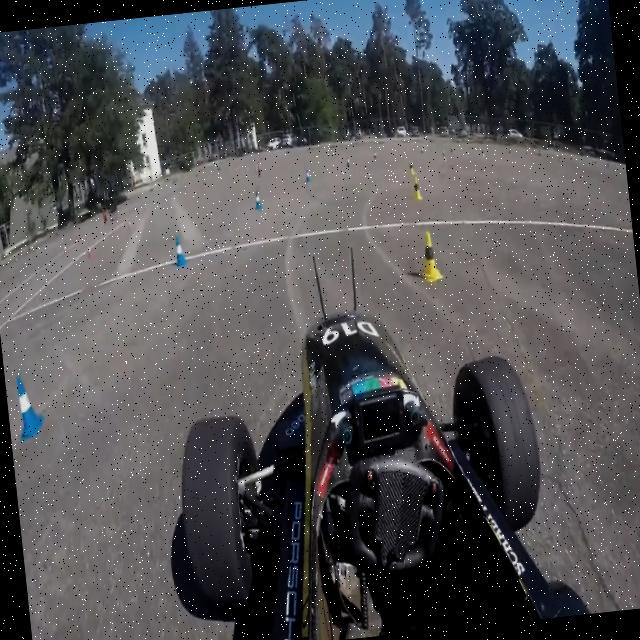blue_cone: (14, 371, 46, 439), (172, 234, 188, 268), (252, 190, 262, 210)
yellow_cone: (415, 226, 444, 284), (410, 174, 423, 200)
